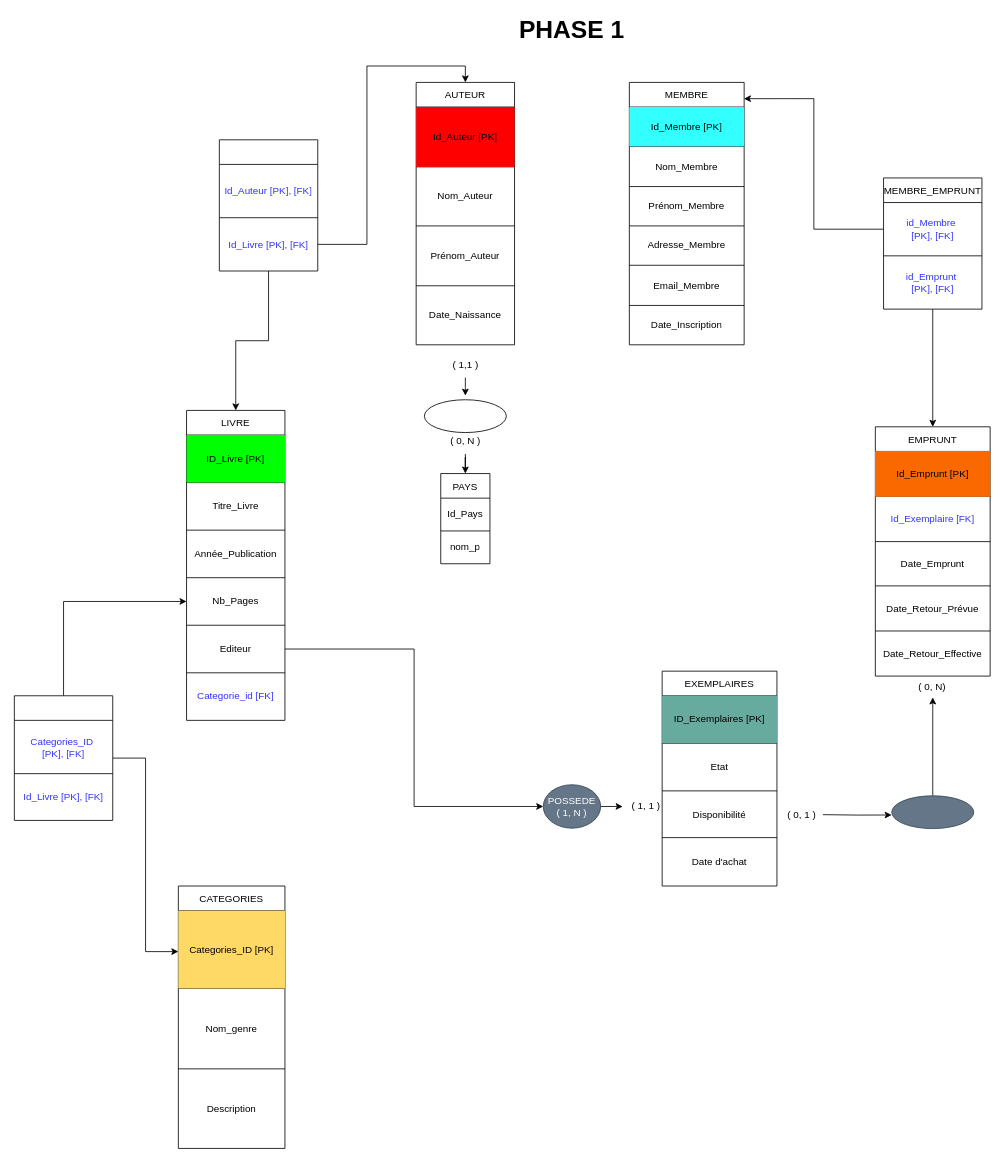
Some shapes in this 1005 by 1163 pixel diagram are drawn without their labels. Here are the shapes that lost their labels. From the top down, the box of each, then its label:
(219, 139, 318, 271): AUTEUR_LIVRE
(424, 399, 506, 433): Originaire de (1,N)
(14, 695, 113, 820): LIVRE_CATEGORIE
(891, 795, 974, 829): CONCERNE ( 1, N )
